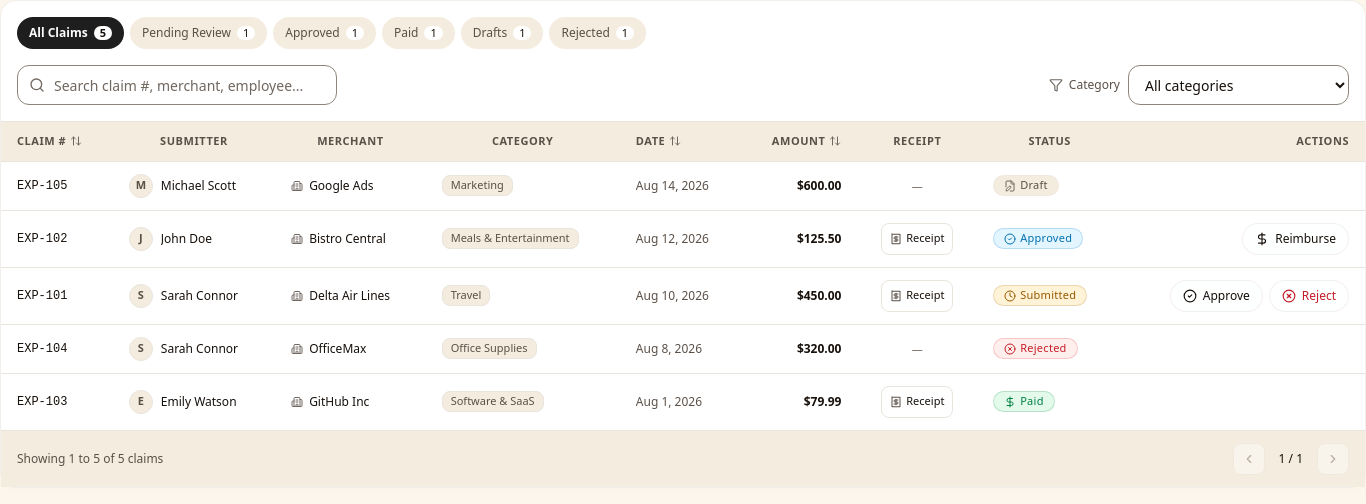
Test case: ExpenseClaimsTable Component › filters claims via search input
This screenshot has width=1366, height=504.
In the search field with test id "input-search-claims": (177, 85) x1=17 y1=65 x2=337 y2=105, type "Delta Air"
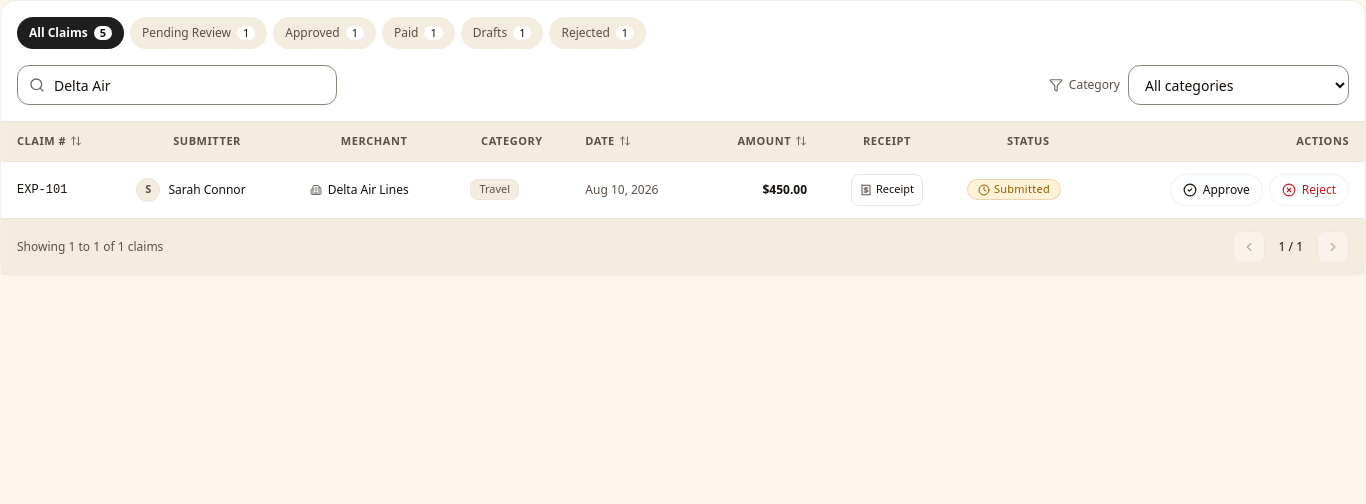
expect the button "EXP-101" is shown: met, box x1=17 y1=182 x2=67 y2=198
expect the button "EXP-102" is gone: met
expect the button "EXP-103" is gone: met
